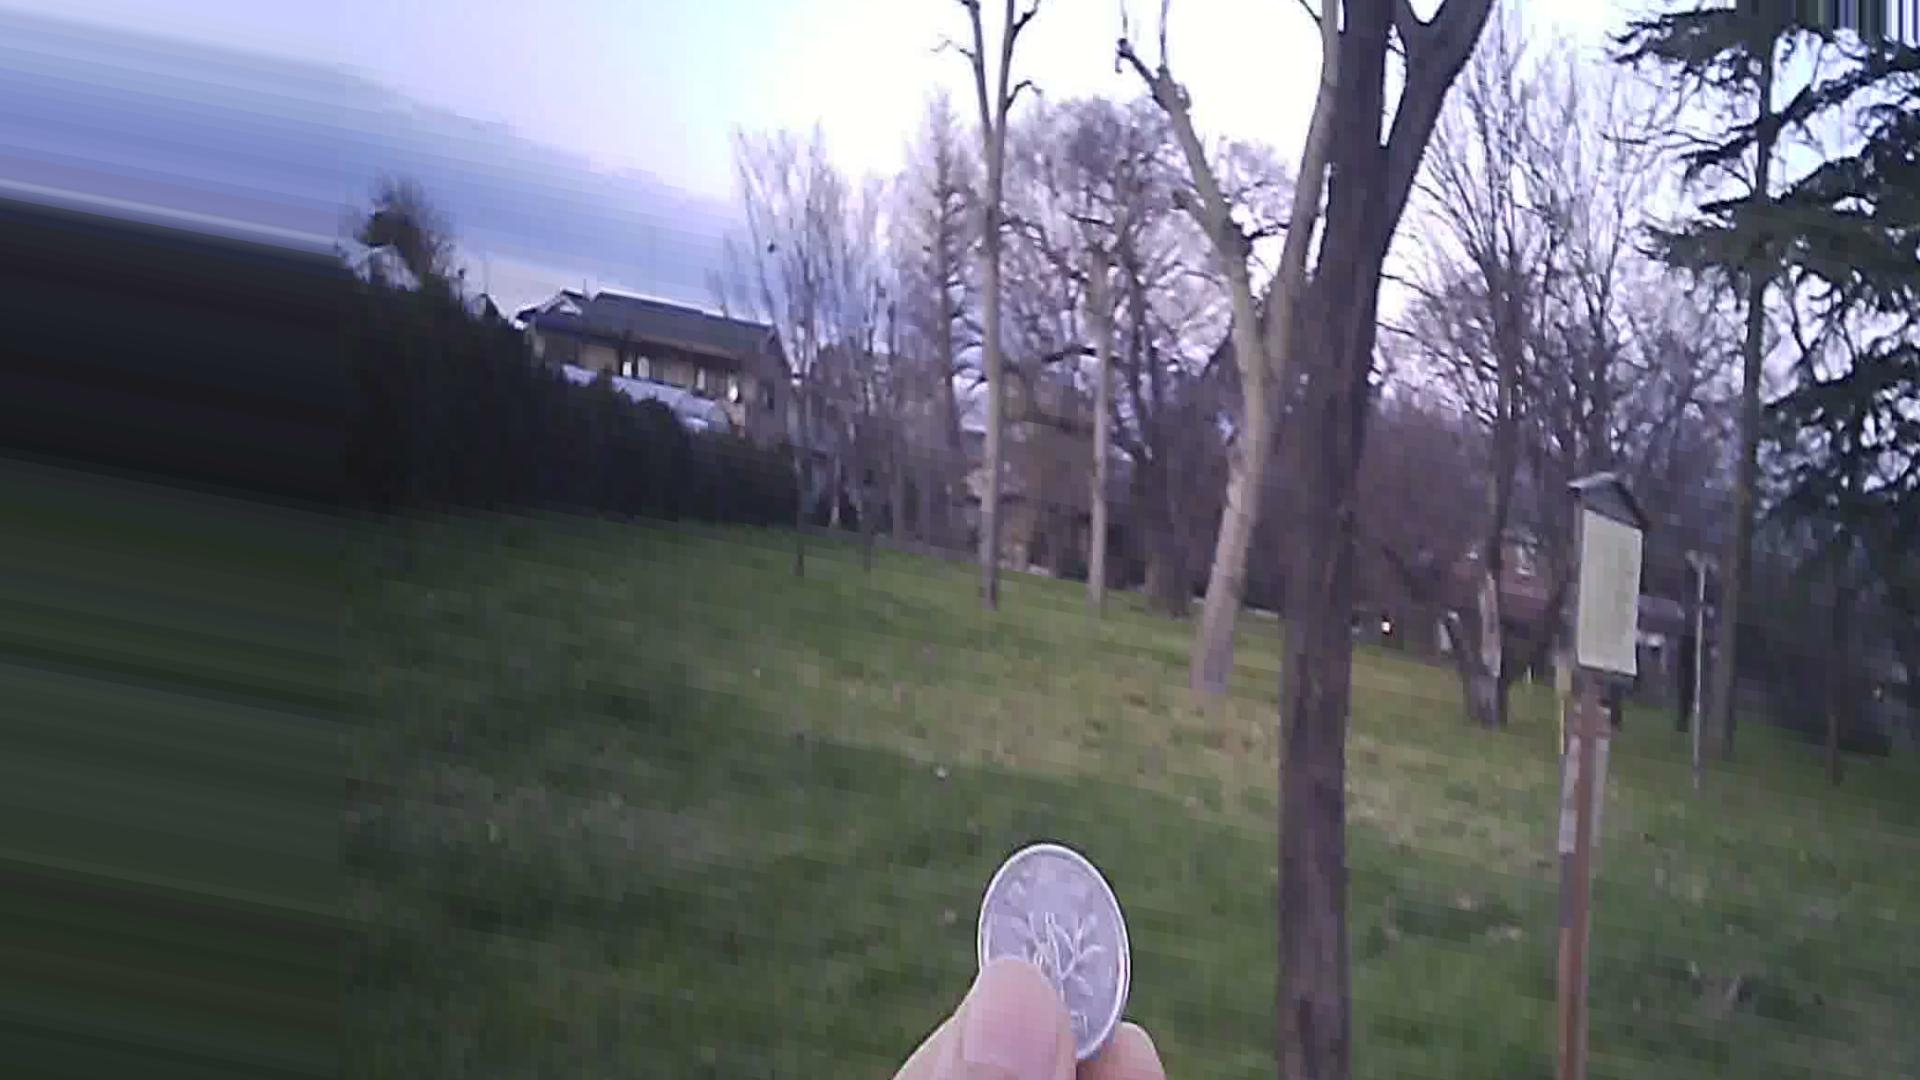1 Yen: (971, 851, 1153, 1076)
